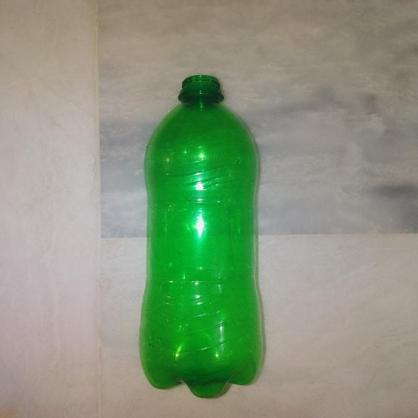bottle: (135, 64, 278, 399)
